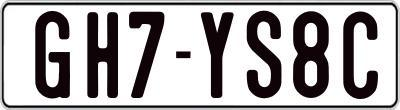7: (128, 9, 167, 98)
8: (293, 11, 331, 104)
C: (341, 10, 379, 98)
G: (32, 8, 67, 100)
H: (85, 11, 117, 101)
S: (246, 9, 284, 97)
Y: (199, 12, 235, 103)
